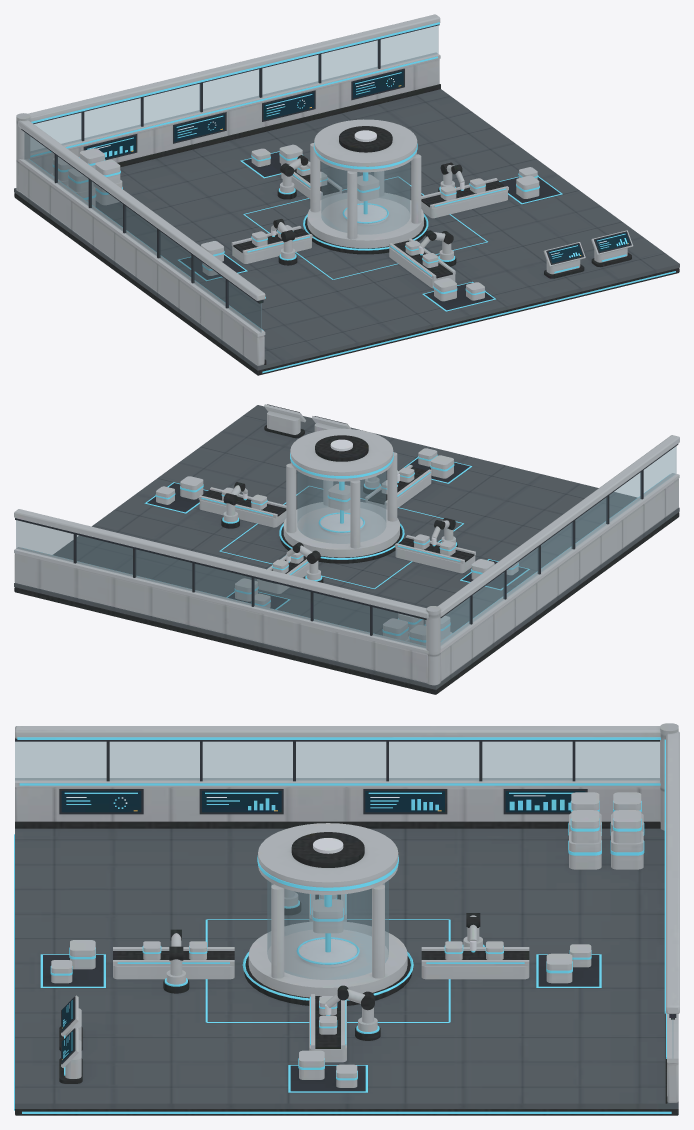
Rendered from enterprise_factory.glb.
The picture shows the model from 3 angles, top to bottom: view 1: azimuth 30°, elevation 25°; view 2: azimuth 150°, elevation 25°; view 3: azimuth 270°, elevation 25°; orthographic projection. The views are drawn at different scales.
Visible parts, largest first — view 1: te_enterprise_factory; view 2: te_enterprise_factory; view 3: te_enterprise_factory.
Part boxes in pixels (x1,y1,x2,y2): te_enterprise_factory: (14, 14, 679, 375); te_enterprise_factory: (14, 404, 679, 694); te_enterprise_factory: (14, 723, 679, 1115).
Bounding box in the file's own units: 2.85 × 0.66 × 2.85.
Materials: 2 (1 with a texture image).
